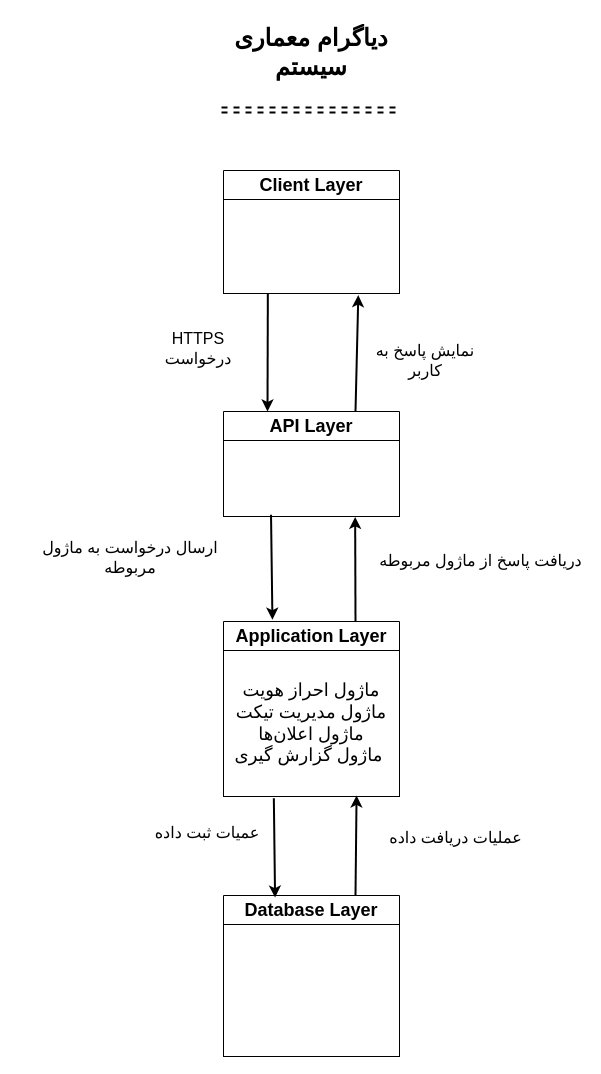
The diagram is 601 pixels wide and 1074 high, and some of its shapes have lost their labels. The shapes that lost their labels are listed below. From the top down, each one's centre as x and y in pixels, then its label:
point (311, 246): کاربران مدیران مرورگر وب
point (311, 478): FastAPI Static pages
point (311, 990): SQLite / PostgreSQL
